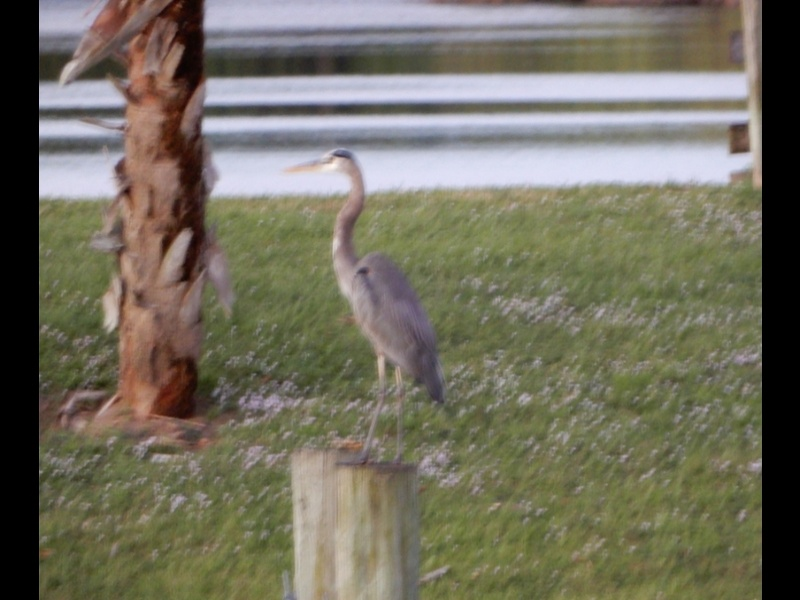heron: (285, 148, 454, 476)
